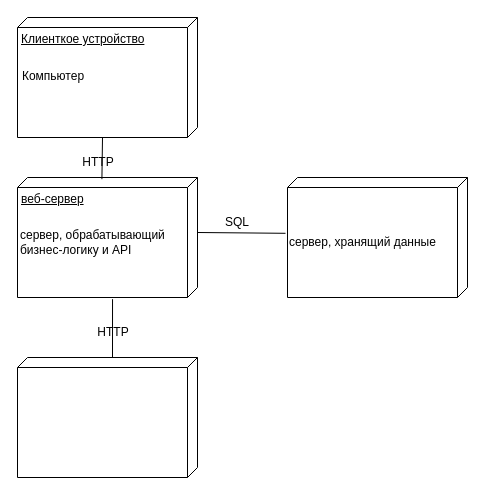
The diagram is 485 pixels wide and 495 high, and some of its shapes have lost their labels. Here are the shapes that lost their labels. From the top down, the box of each, then its label:
(286, 176, 468, 298): База данных
(16, 356, 198, 478): Рабочая станция
